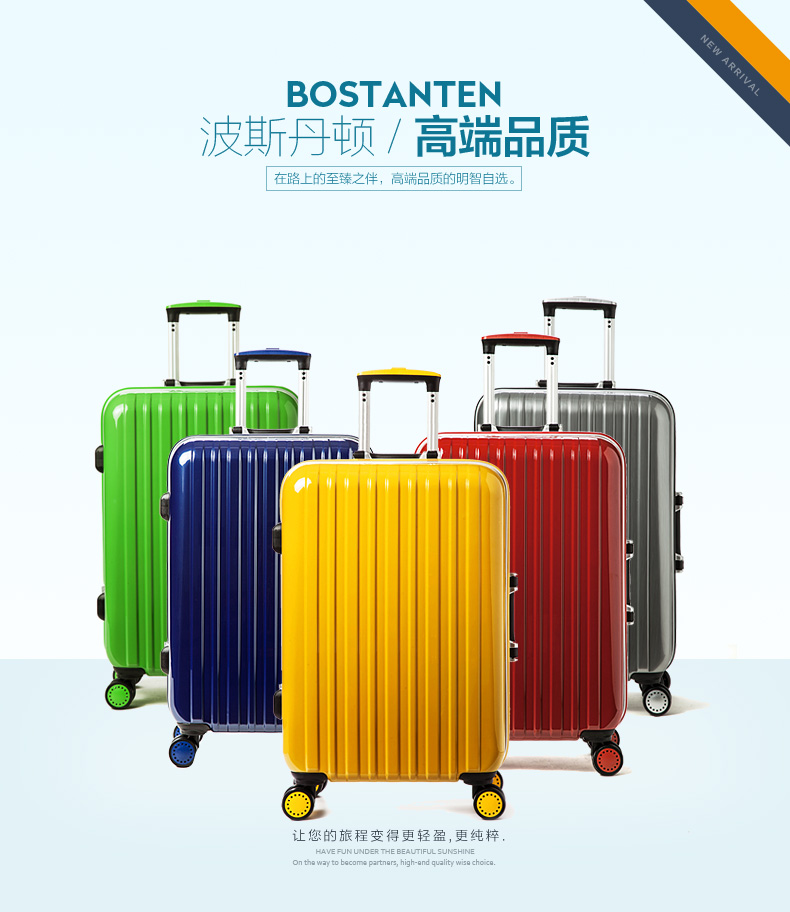luggage: (272, 369, 510, 819)
